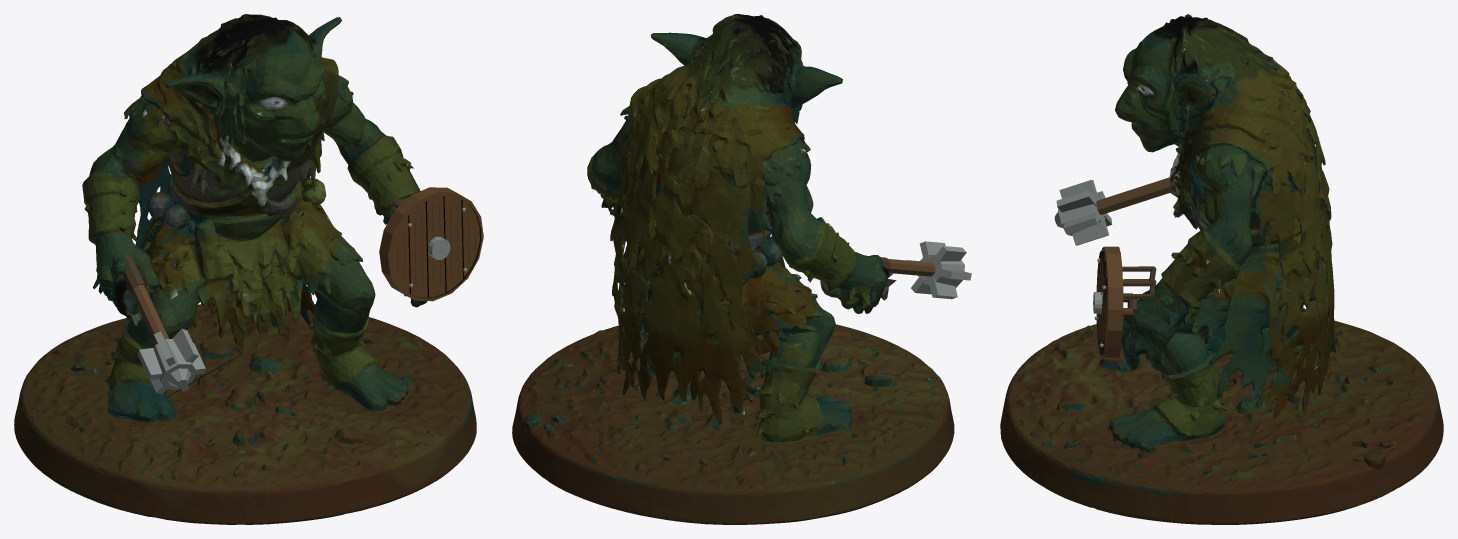
Rendered from goblinCombatente_maca_com_escudo.glb.
3 views of the same model, side by side, from view 1: azimuth 30°, elevation 25°; view 2: azimuth 150°, elevation 25°; view 3: azimuth 270°, elevation 25° (orthographic). The views are drawn at different scales.
Visible parts, largest first — view 1: goblinCombatente_maca_com_escudo; view 2: goblinCombatente_maca_com_escudo; view 3: goblinCombatente_maca_com_escudo.
Part boxes in pixels (x1,y1,x2,y2): goblinCombatente_maca_com_escudo: (14,14,483,524); goblinCombatente_maca_com_escudo: (512,14,971,524); goblinCombatente_maca_com_escudo: (1000,14,1443,524).
Bounding box in the file's own units: 1.94 × 1.96 × 1.91.
14 materials, 6 textured.
